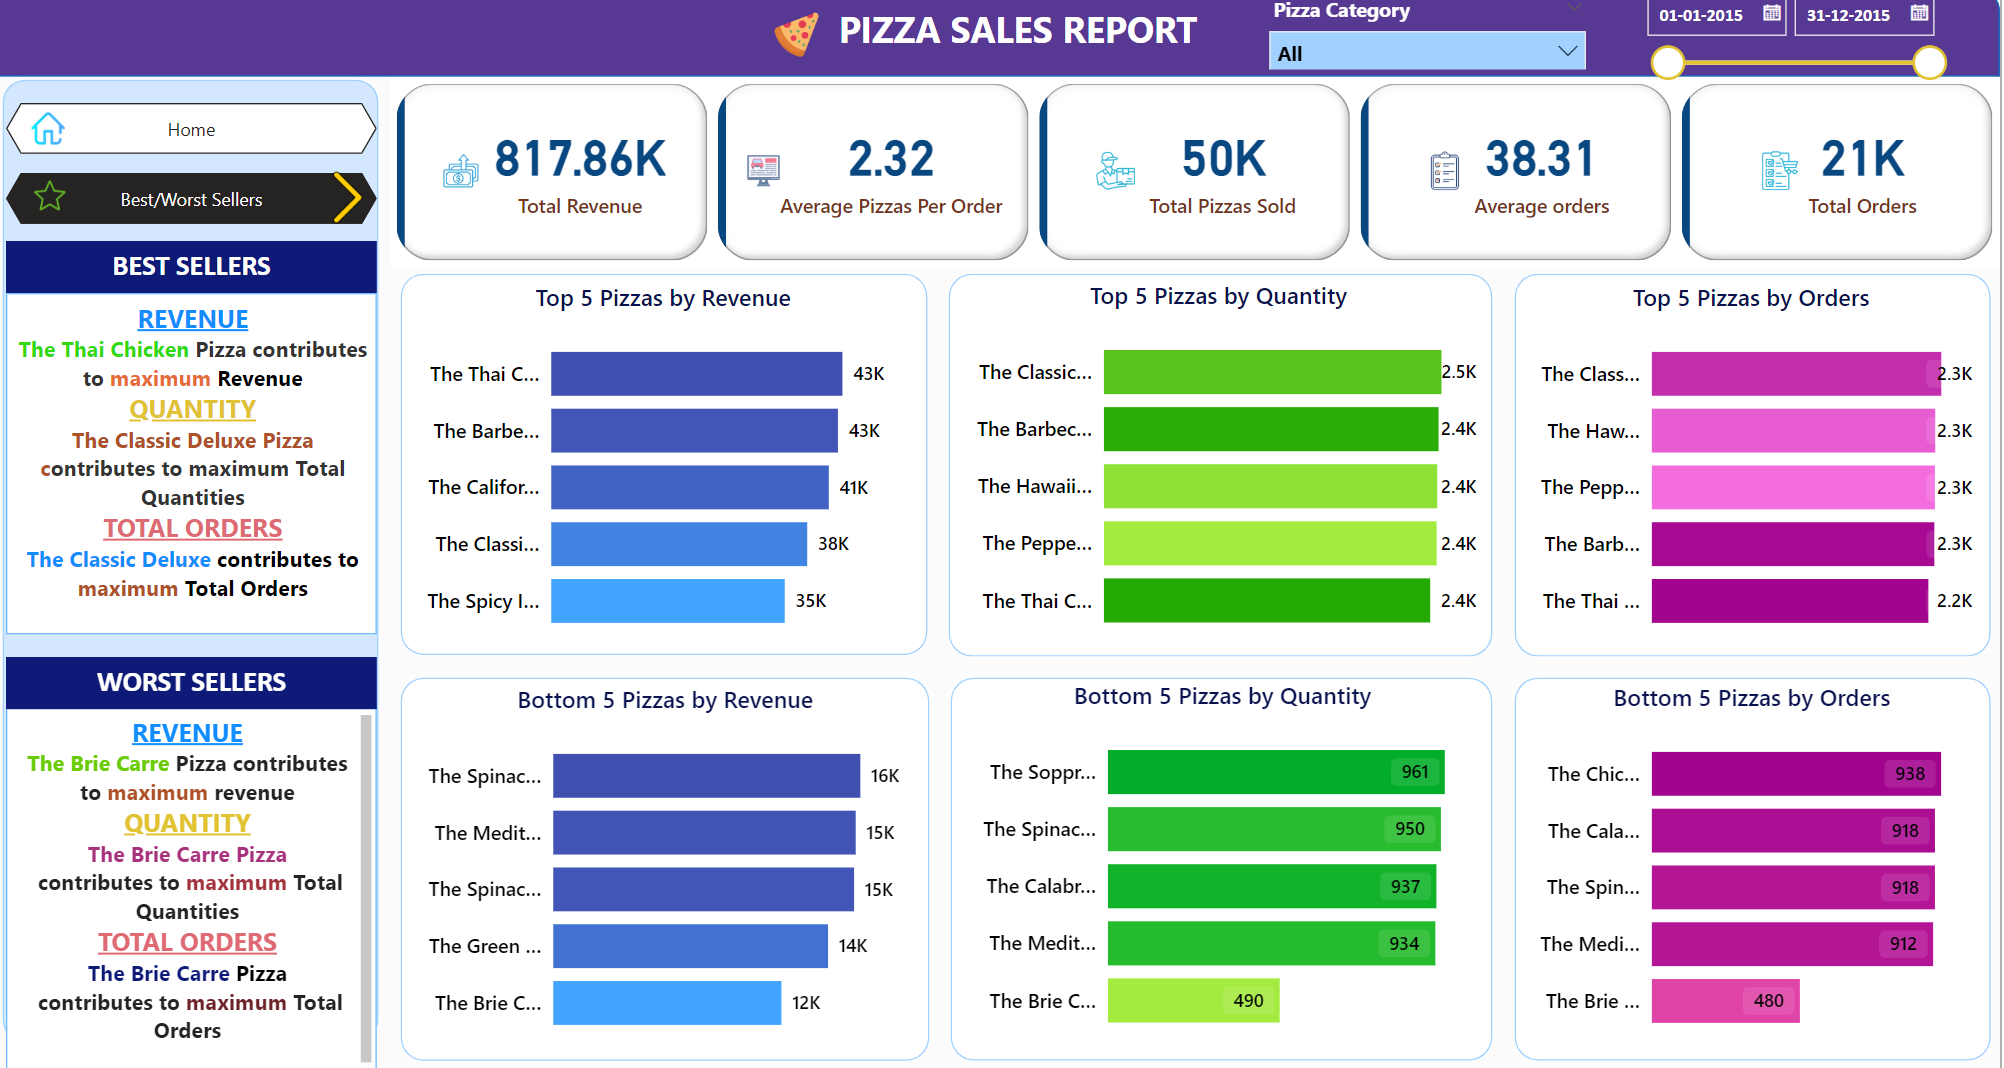

The page's visual inventory and layout, read from the dashboard file:
{"tool":"powerbi","page":{"name":"Best/Worst Sellers","canvas":[1500,820],"ordinal":1},"visuals":[{"type":"shape","box":[0,72.4,296.6,735.3],"z":0},{"type":"shape","box":[0,12.5,1499.9,65.5],"z":1000},{"type":"cardVisual","fields":{"Data":["pizza_sales.Total Revenue","pizza_sales.Average Pizzas Per Order","pizza_sales.Total Pizzas Sold","pizza_sales.Average orders","pizza_sales.Total Orders"]},"box":[296.6,78,1203.3,142.1],"z":2000},{"type":"textbox","box":[628.1,18.1,303.6,54.3],"z":3000},{"type":"image","box":[557.1,23.7,87.7,44.6],"z":4000},{"type":"shape","box":[296.6,217.3,409.4,300.8],"z":5000},{"type":"textbox","box":[9.7,200.5,277.1,39],"z":6000},{"type":"textbox","box":[9.7,239.5,277.1,254.9],"z":7000},{"type":"textbox","box":[9.7,548.7,277.1,271.6],"z":8000},{"type":"textbox","box":[9.7,511.1,277.1,39],"z":9000},{"type":"slicer","fields":{"Values":["pizza_sales.order_date"]},"box":[1224.2,5.6,245.1,75.2],"z":10000},{"type":"slicer","fields":{"Values":["pizza_sales.pizza_category"]},"box":[944.2,12.5,256.3,59.9],"z":11000},{"type":"shape","box":[706.7,216.6,422.1,302],"z":12000},{"type":"shape","box":[1128.8,216.6,371.5,302],"z":13000},{"type":"shape","box":[296.6,518.1,410.8,302.2],"z":14000},{"type":"shape","box":[708.3,518.6,420.5,302],"z":15000},{"type":"shape","box":[1128.8,518.6,371.5,302],"z":16000},{"type":"barChart","title":"Top 5 Pizzas by Revenue","fields":{"Category":["pizza_sales.pizza_name"],"Y":["pizza_sales.Total Revenue"]},"box":[307.8,229.8,387.2,278.5],"z":17000},{"type":"barChart","title":"Bottom 5 Pizzas by Revenue","fields":{"Category":["pizza_sales.pizza_name"],"Y":["pizza_sales.Total Revenue"]},"box":[309.2,530.6,387.2,278.5],"z":18000},{"type":"barChart","title":"Top 5 Pizzas by Orders","fields":{"Category":["pizza_sales.pizza_name"],"Y":["pizza_sales.Total Orders"]},"box":[1140.6,229.8,348.2,278.5],"z":19000},{"type":"barChart","title":"Bottom 5 Pizzas by Quantity","fields":{"Category":["pizza_sales.pizza_name"],"Y":["pizza_sales.Total Pizzas Sold"]},"box":[720.9,528,395.2,279.8],"z":20000},{"type":"barChart","title":"Top 5 Pizzas by Quantity","fields":{"Category":["pizza_sales.pizza_name"],"Y":["pizza_sales.Total Pizzas Sold"]},"box":[719.3,229.2,395.2,279.8],"z":21000},{"type":"barChart","title":"Bottom 5 Pizzas by Orders","fields":{"Category":["pizza_sales.pizza_name"],"Y":["pizza_sales.Total Orders"]},"box":[1139.2,529.2,349.6,278.5],"z":22000},{"type":"pageNavigator","box":[9.7,97.5,277.1,39],"z":23000},{"type":"pageNavigator","box":[11.1,149,277.1,39],"z":24000},{"type":"image","box":[236.8,143.4,59.9,48.7],"z":25000},{"type":"image","box":[11.1,98.9,62.7,34.8],"z":26000},{"type":"image","box":[12.5,149,62.7,33.4],"z":27000}]}

Visuals, with their boxes in screenshot pixels (x1, y1, x2, y2), scaled from the page's 1500x820 canvas onto the 2004x1068 screenshot:
shape: (x1=0, y1=94, x2=396, y2=1052)
shape: (x1=0, y1=16, x2=2003, y2=102)
cardVisual - pizza_sales.Total Revenue x pizza_sales.Average Pizzas Per Order: (x1=396, y1=102, x2=2003, y2=287)
textbox: (x1=839, y1=24, x2=1245, y2=94)
image: (x1=744, y1=31, x2=861, y2=89)
shape: (x1=396, y1=283, x2=943, y2=675)
textbox: (x1=13, y1=261, x2=383, y2=312)
textbox: (x1=13, y1=312, x2=383, y2=644)
textbox: (x1=13, y1=715, x2=383, y2=1067)
textbox: (x1=13, y1=666, x2=383, y2=716)
slicer - pizza_sales.order_date: (x1=1636, y1=7, x2=1963, y2=105)
slicer - pizza_sales.pizza_category: (x1=1261, y1=16, x2=1604, y2=94)
shape: (x1=944, y1=282, x2=1508, y2=675)
shape: (x1=1508, y1=282, x2=2003, y2=675)
shape: (x1=396, y1=675, x2=945, y2=1067)
shape: (x1=946, y1=675, x2=1508, y2=1067)
shape: (x1=1508, y1=675, x2=2003, y2=1067)
"Top 5 Pizzas by Revenue" barChart: (x1=411, y1=299, x2=929, y2=662)
"Bottom 5 Pizzas by Revenue" barChart: (x1=413, y1=691, x2=930, y2=1054)
"Top 5 Pizzas by Orders" barChart: (x1=1524, y1=299, x2=1989, y2=662)
"Bottom 5 Pizzas by Quantity" barChart: (x1=963, y1=688, x2=1491, y2=1052)
"Top 5 Pizzas by Quantity" barChart: (x1=961, y1=299, x2=1489, y2=663)
"Bottom 5 Pizzas by Orders" barChart: (x1=1522, y1=689, x2=1989, y2=1052)
pageNavigator: (x1=13, y1=127, x2=383, y2=178)
pageNavigator: (x1=15, y1=194, x2=385, y2=245)
image: (x1=316, y1=187, x2=396, y2=250)
image: (x1=15, y1=129, x2=99, y2=174)
image: (x1=17, y1=194, x2=100, y2=238)
